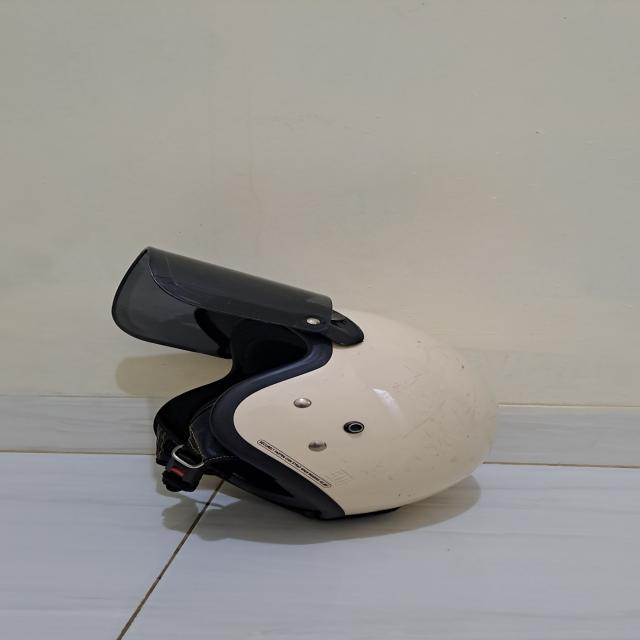Helm: (109, 246, 502, 526)
